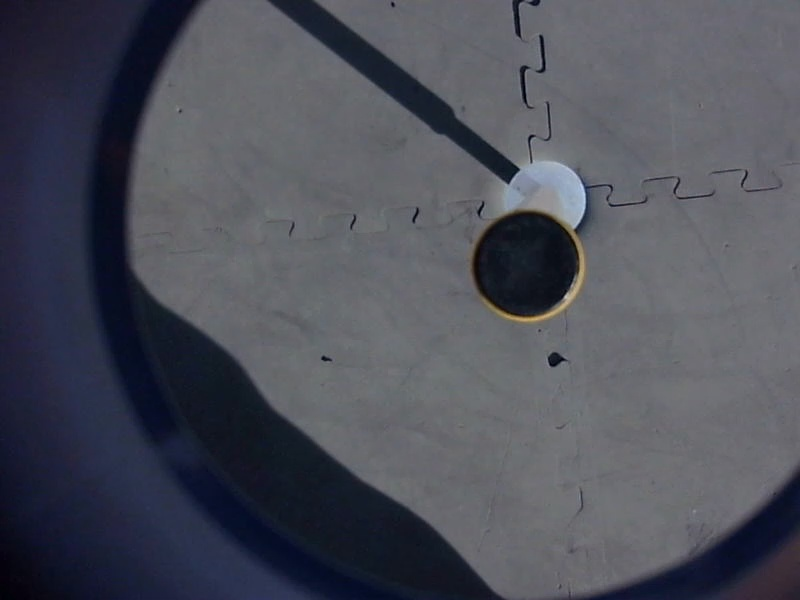tip: (466, 206, 588, 327)
